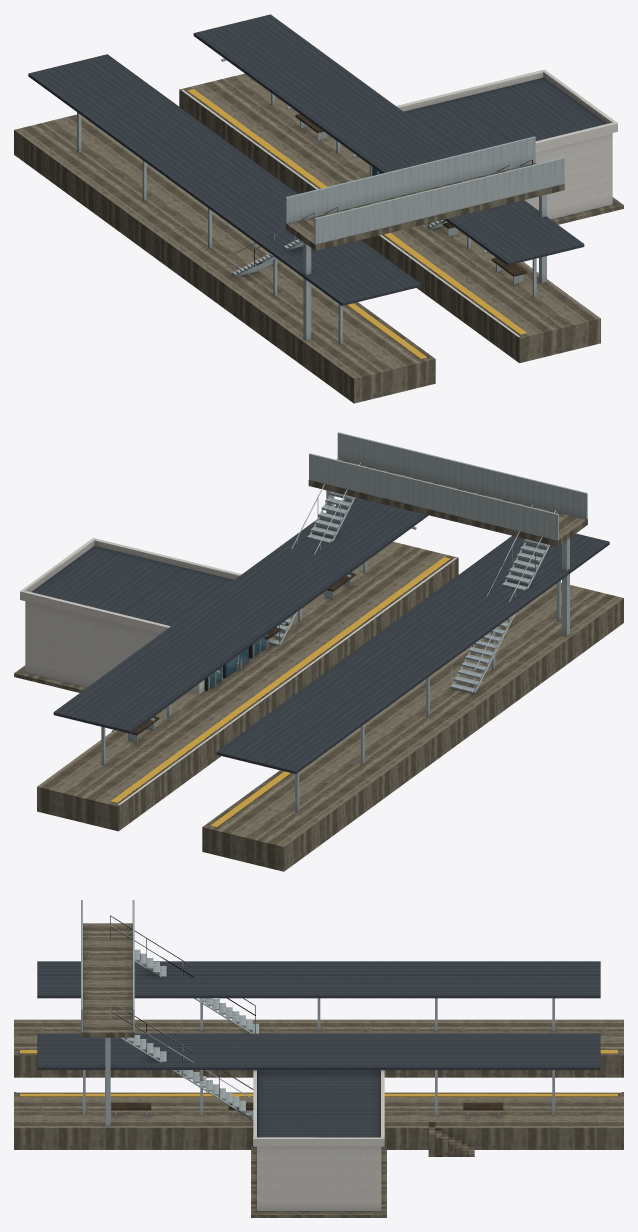
Rendered from station_002.obj.
3 views of the same model, one above another, from view 1: azimuth 30°, elevation 25°; view 2: azimuth 150°, elevation 25°; view 3: azimuth 270°, elevation 25° (orthographic). The views are drawn at different scales.
Parts seen in each view (by area): view 1: station_002; view 2: station_002; view 3: station_002.
Part boxes in pixels (x1=…): station_002: x1=14, y1=14, x2=623, y2=403; station_002: x1=14, y1=432, x2=623, y2=871; station_002: x1=14, y1=900, x2=623, y2=1217.
Size of the model in its own units: 17.8 by 6.65 by 26.
1 material, 1 textured.
